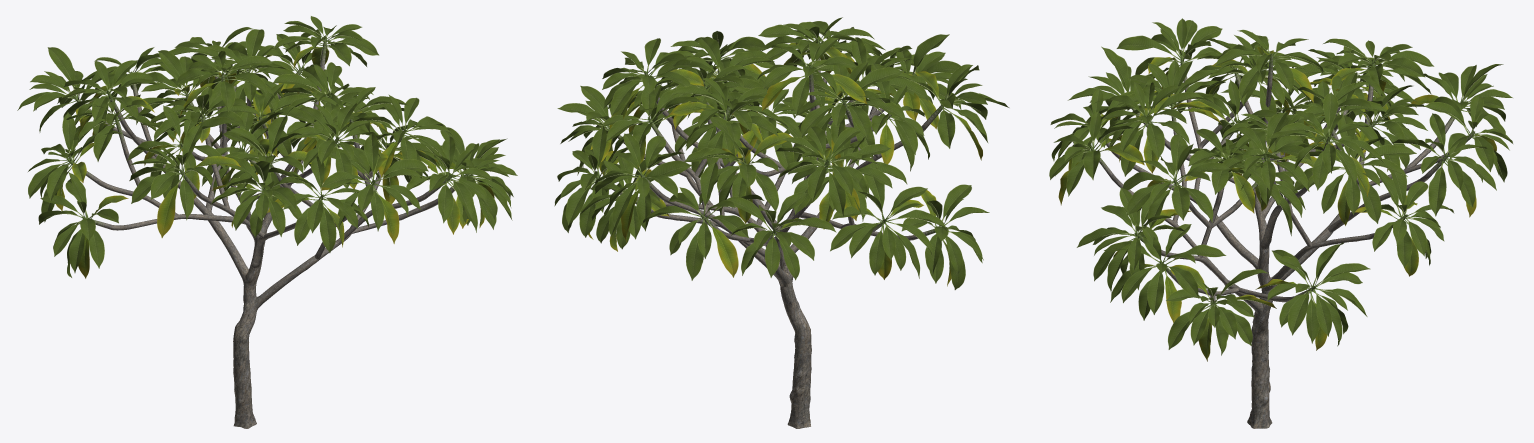
File: BerryTree.glb
3 renders of one model, left to right at view 1: azimuth 30°, elevation 25°; view 2: azimuth 150°, elevation 25°; view 3: azimuth 270°, elevation 25°, orthographic. The views are drawn at different scales.
Parts seen in each view (by area): view 1: Plumeria_rubra_pink_HD; view 2: Plumeria_rubra_pink_HD; view 3: Plumeria_rubra_pink_HD.
Boxes of the visible parts, x1,y1,x2,y2 form: Plumeria_rubra_pink_HD: (17,16,517,428); Plumeria_rubra_pink_HD: (554,17,1009,428); Plumeria_rubra_pink_HD: (1049,18,1512,428).
Bounding box in the file's own units: 3.65 × 2.98 × 3.36.
Materials: 6 (6 with a texture image).
